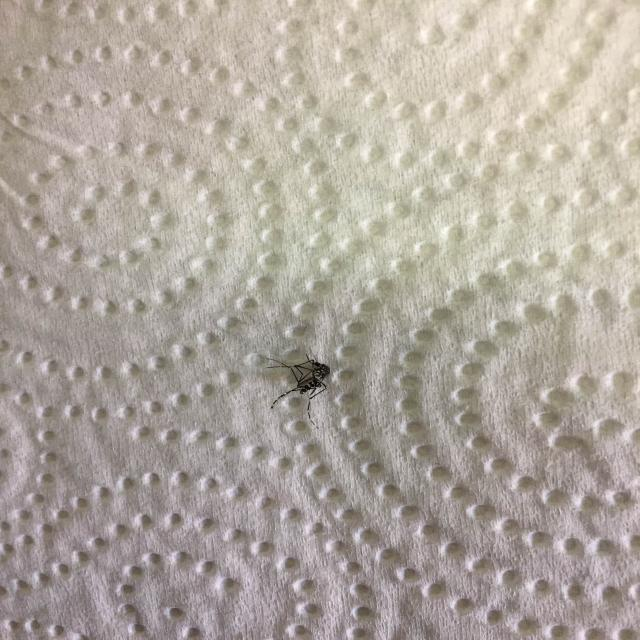albopictus: (254, 347, 338, 428)
